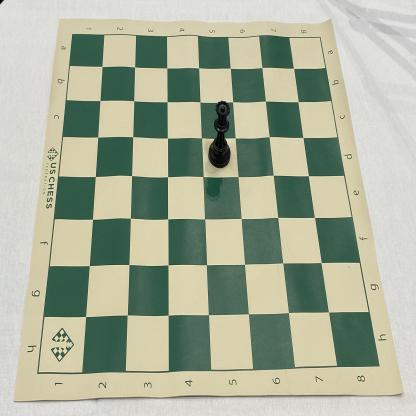black-queen: (208, 100, 231, 170)
